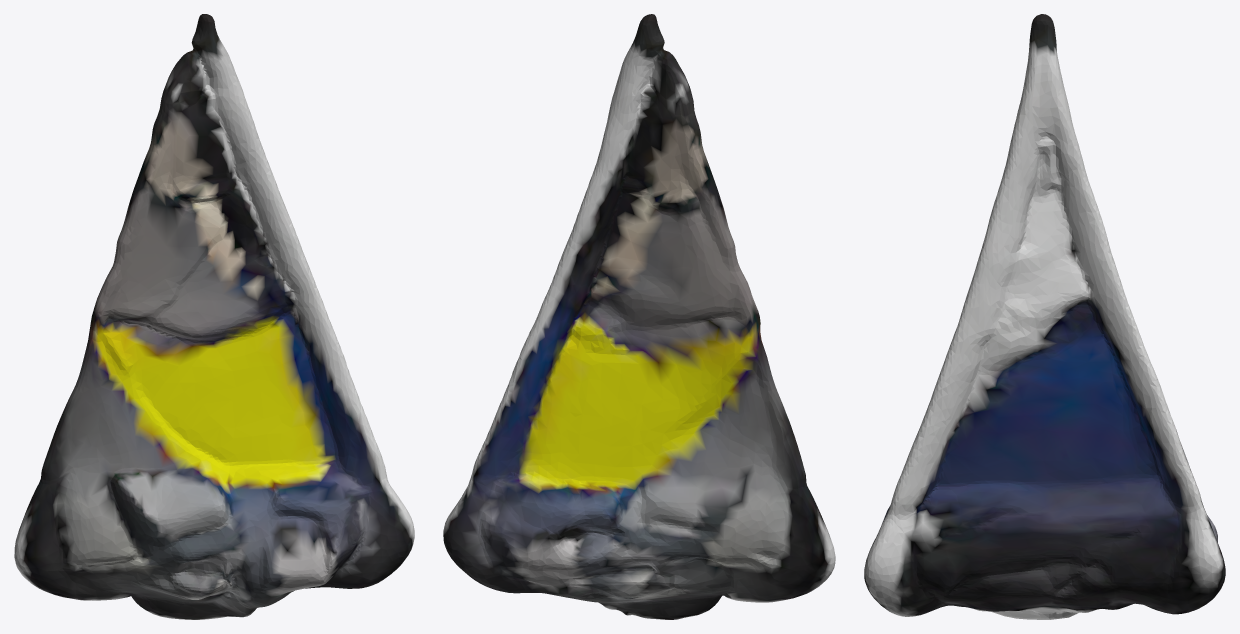
The model's file is wiz_hat.glb.
The picture shows the model from 3 angles, left to right: view 1: azimuth 30°, elevation 25°; view 2: azimuth 150°, elevation 25°; view 3: azimuth 270°, elevation 25°; orthographic projection. The views are drawn at different scales.
Visible parts, largest first — view 1: geometry_0; view 2: geometry_0; view 3: geometry_0.
Part boxes in pixels (x1,y1,x2,y2): geometry_0: [14, 14, 414, 619]; geometry_0: [443, 14, 835, 619]; geometry_0: [864, 14, 1225, 619].
Bounding box in the file's own units: 0.3279 × 0.5938 × 0.3218.
